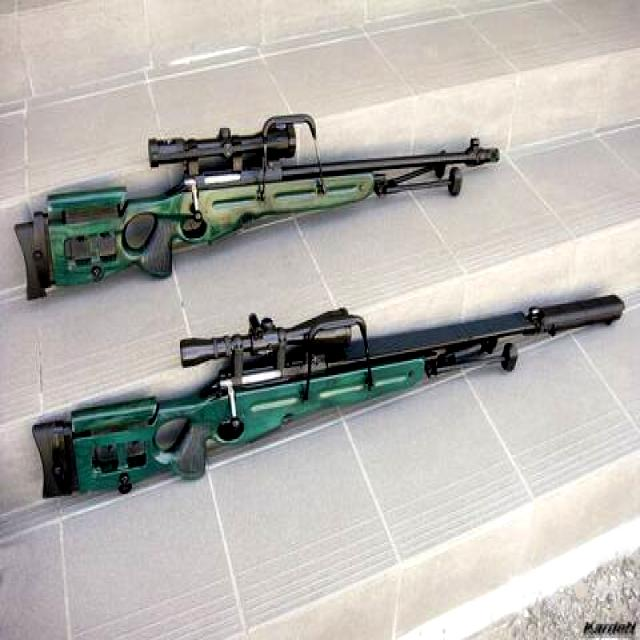rifle: (19, 267, 631, 531), (5, 102, 518, 293)
